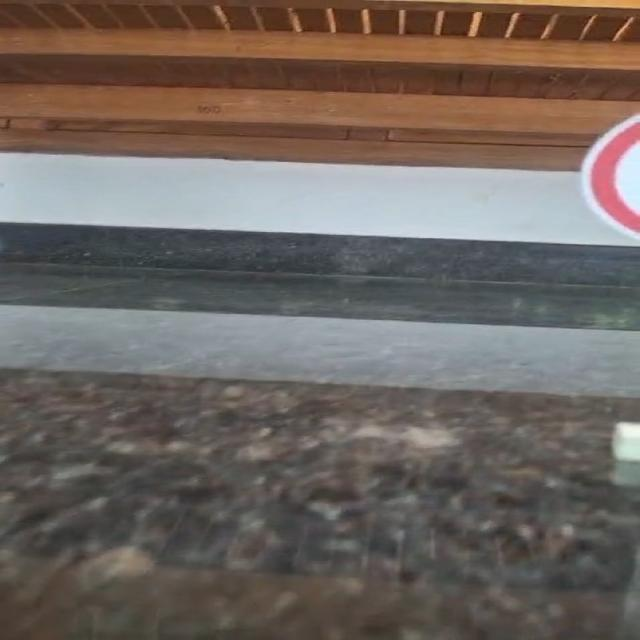Reject: (574, 105, 640, 252)
